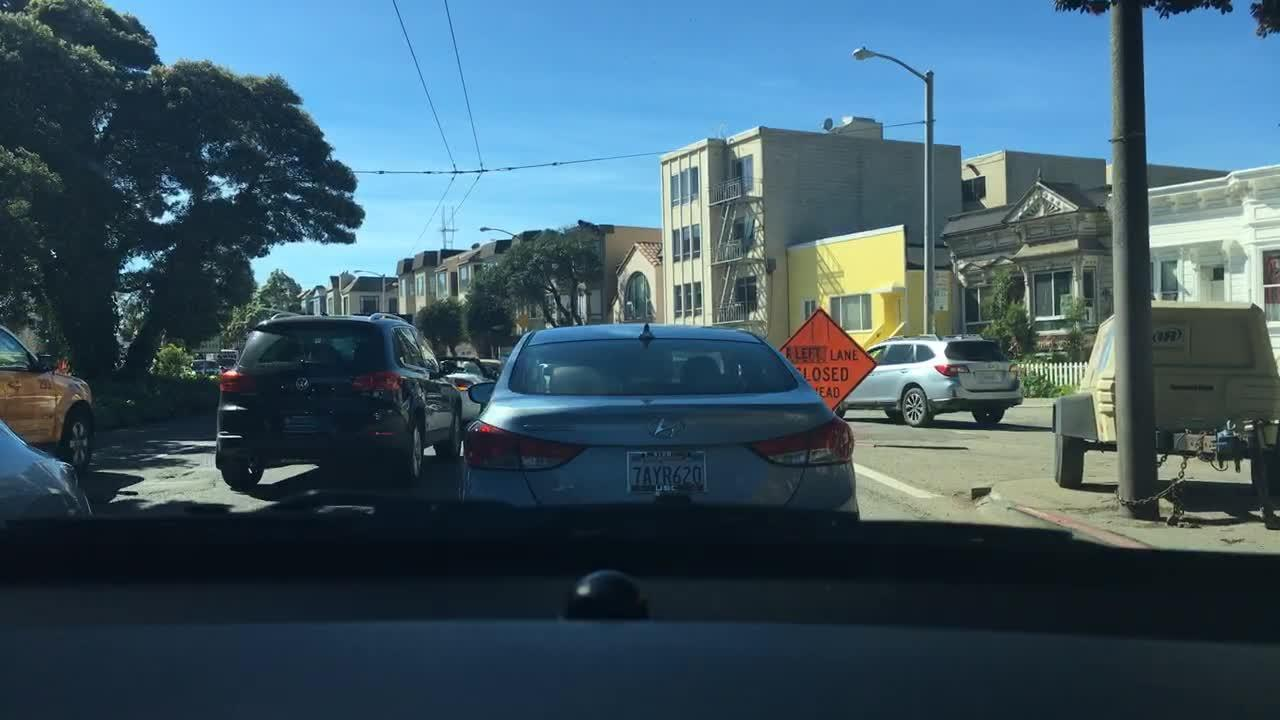Hyundai: (638, 407, 697, 443)
Volkswagen: (295, 376, 310, 392)
